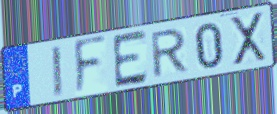0: (193, 21, 225, 71)
E: (110, 28, 149, 91)
F: (73, 34, 109, 99)
I: (49, 43, 65, 100)
R: (150, 26, 190, 81)
X: (228, 10, 269, 69)
